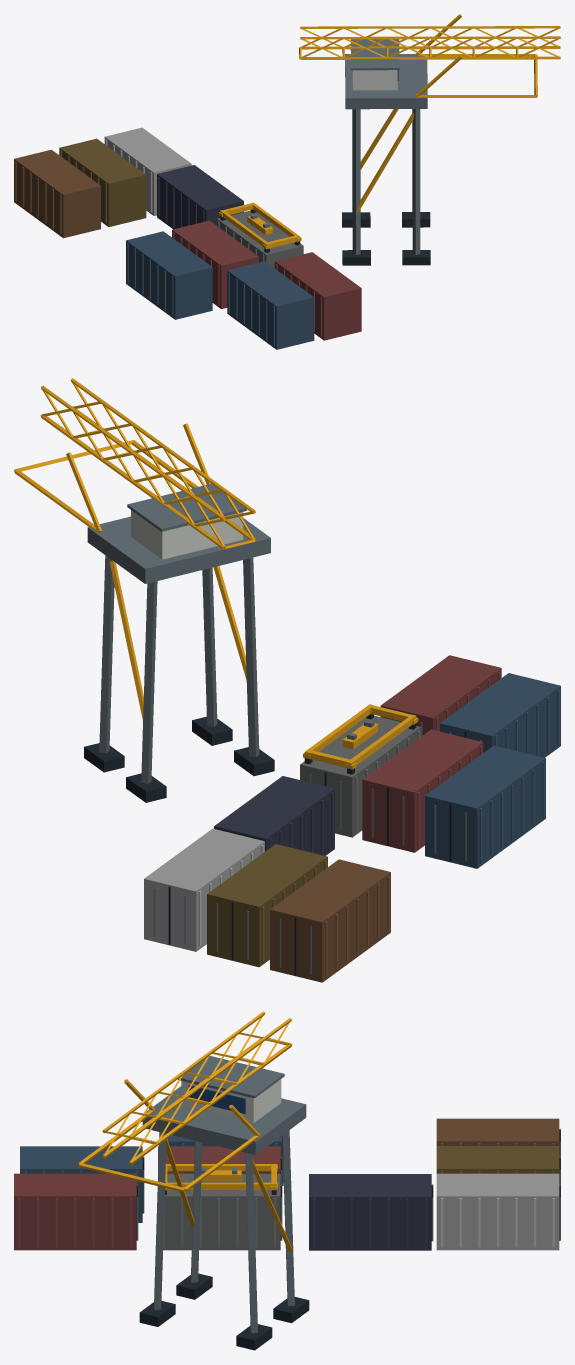
File: gantry-crane-n-s-06.glb
The picture shows the model from 3 angles, top to bottom: view 1: azimuth 30°, elevation 25°; view 2: azimuth 150°, elevation 25°; view 3: azimuth 270°, elevation 25°; orthographic projection. The views are drawn at different scales.
Visible parts, largest first — view 1: gantry-crane-n-s-06; view 2: gantry-crane-n-s-06; view 3: gantry-crane-n-s-06.
Boxes of the visible parts, x1=… form: gantry-crane-n-s-06: x1=14, y1=14, x2=560, y2=349; gantry-crane-n-s-06: x1=14, y1=378, x2=560, y2=982; gantry-crane-n-s-06: x1=14, y1=1011, x2=560, y2=1350.
Bounding box in the file's own units: 57.97 × 31.18 × 58.88.
